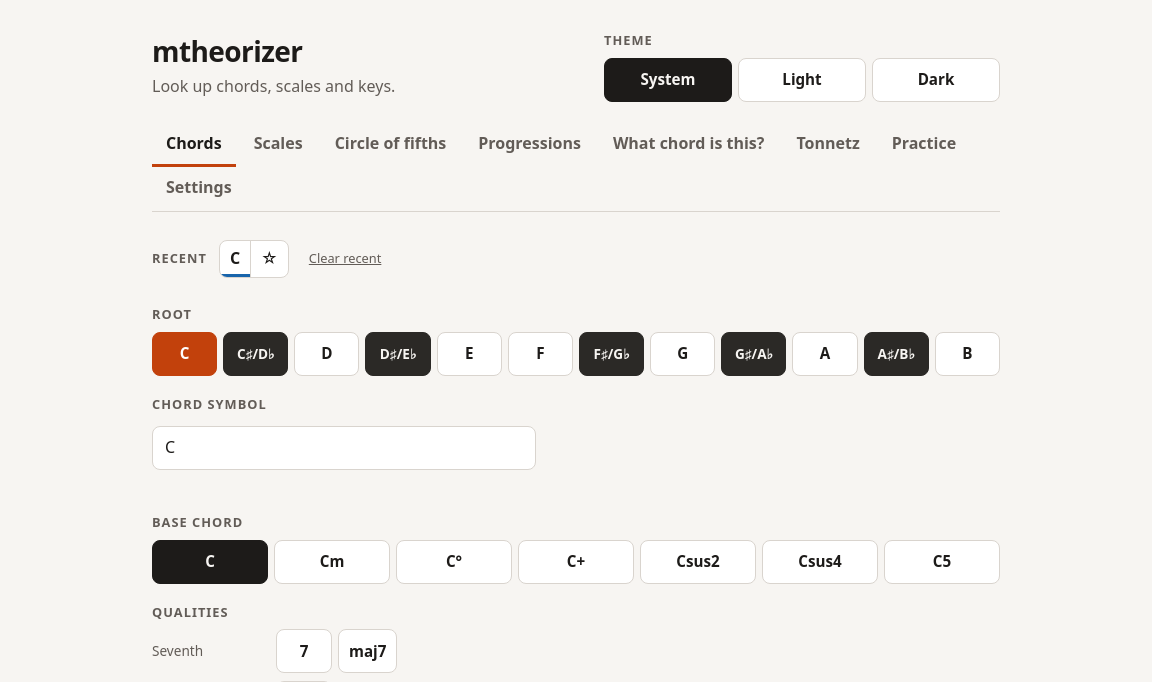
Test: App › chord builder › offers only the qualities that fit the chord as it looks now
The image size is (1152, 682).
Expected: the button "9" is not shown
Expected: the button "♭9" is not shown
Click the button "7".
click(304, 652)  # box [276,630,332,674]
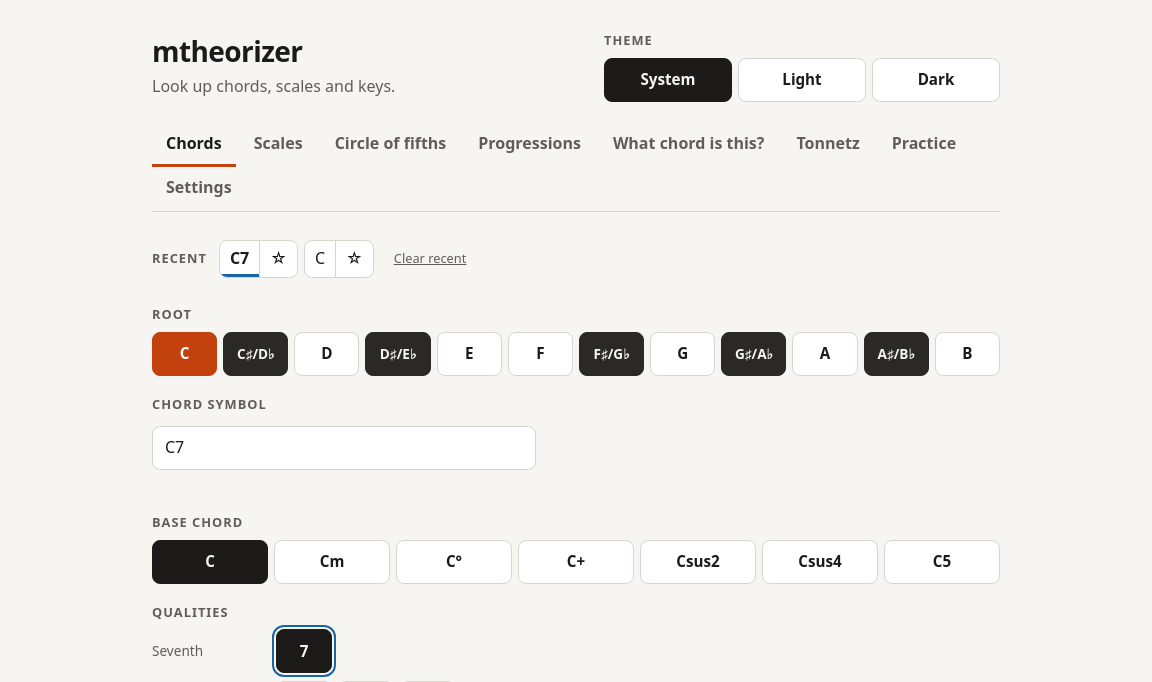
Now the button "maj7" is gone
// On a minor chord ♭5 would make it diminished, so it is not offered.
Click the radio button with aria-label "Minor".
click(332, 562)  # box [274,540,390,584]
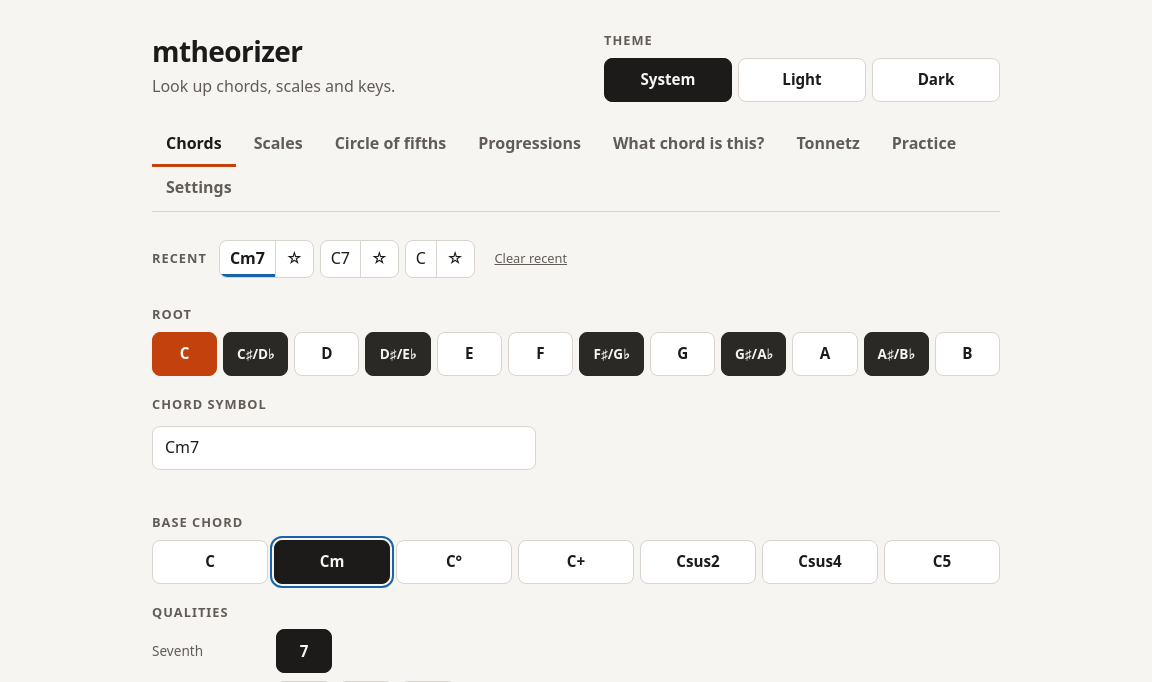
// On a diminished chord the seventh is either 7 or °7, and maj7 is not offered.
Click the button "7".
click(304, 652)  # box [276,630,332,674]
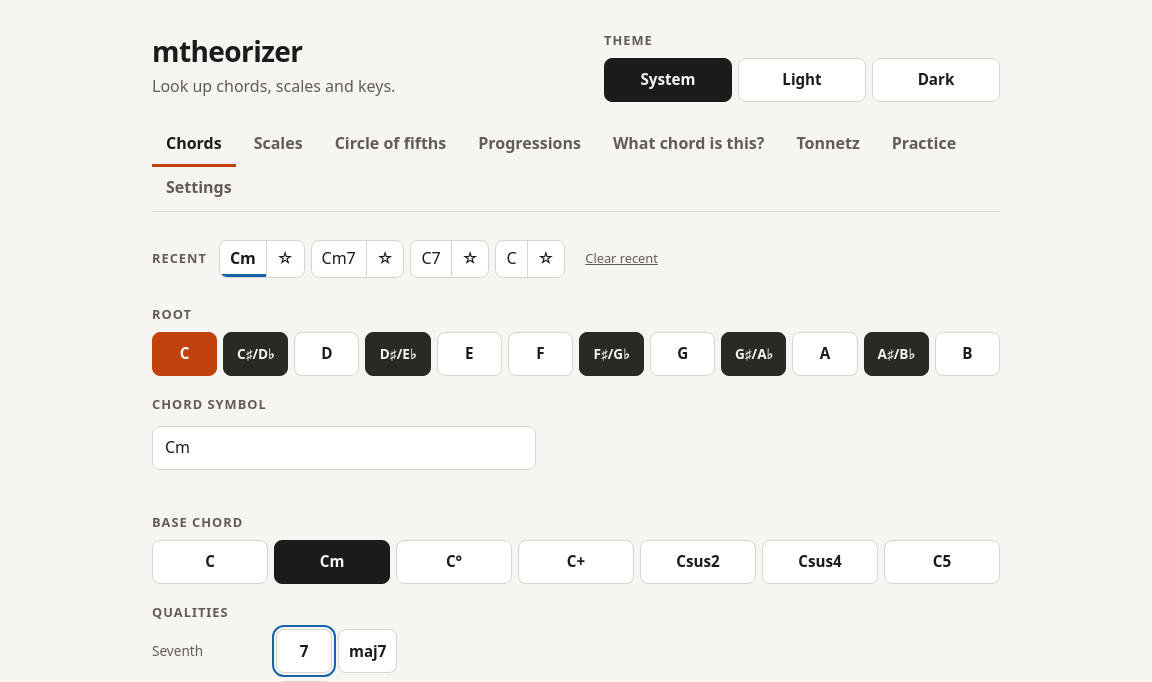
Click the radio button named "Diminished".
click(454, 562)  # box [396,540,512,584]
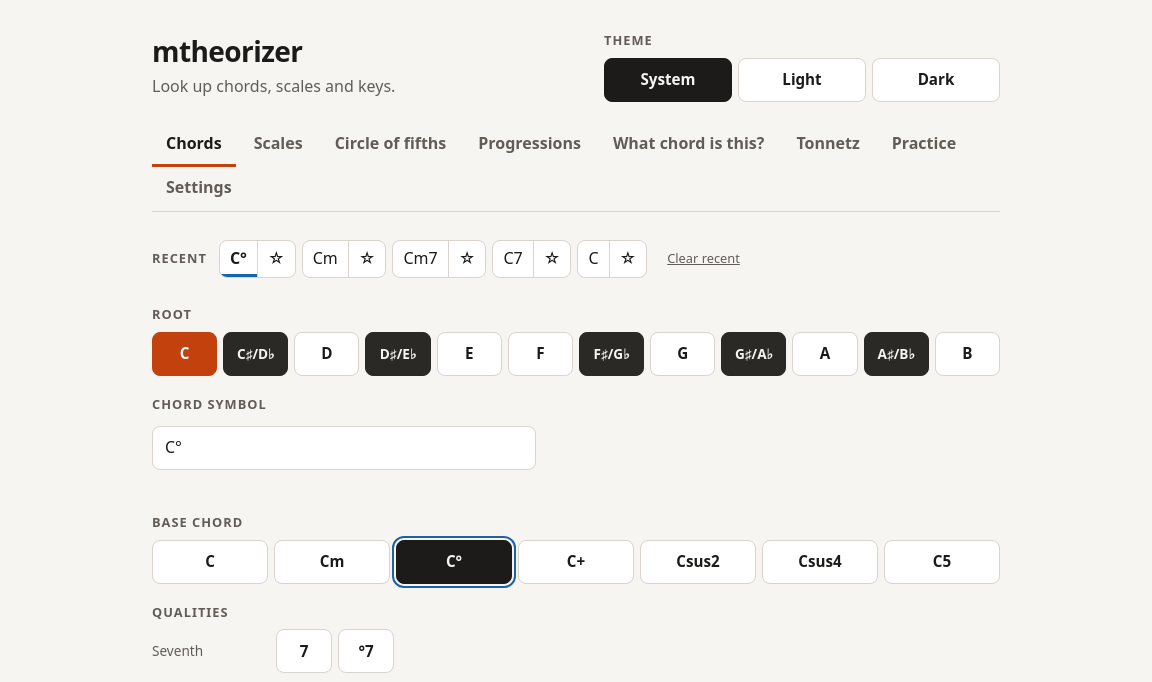
Now the button "°7" is shown, box [338,630,394,674]
Now the button "maj7" is gone
// Csus4 has the eleventh as its fourth.
Click the radio button with aria-label "Suspended fourth".
click(820, 562)  # box [762,540,878,584]
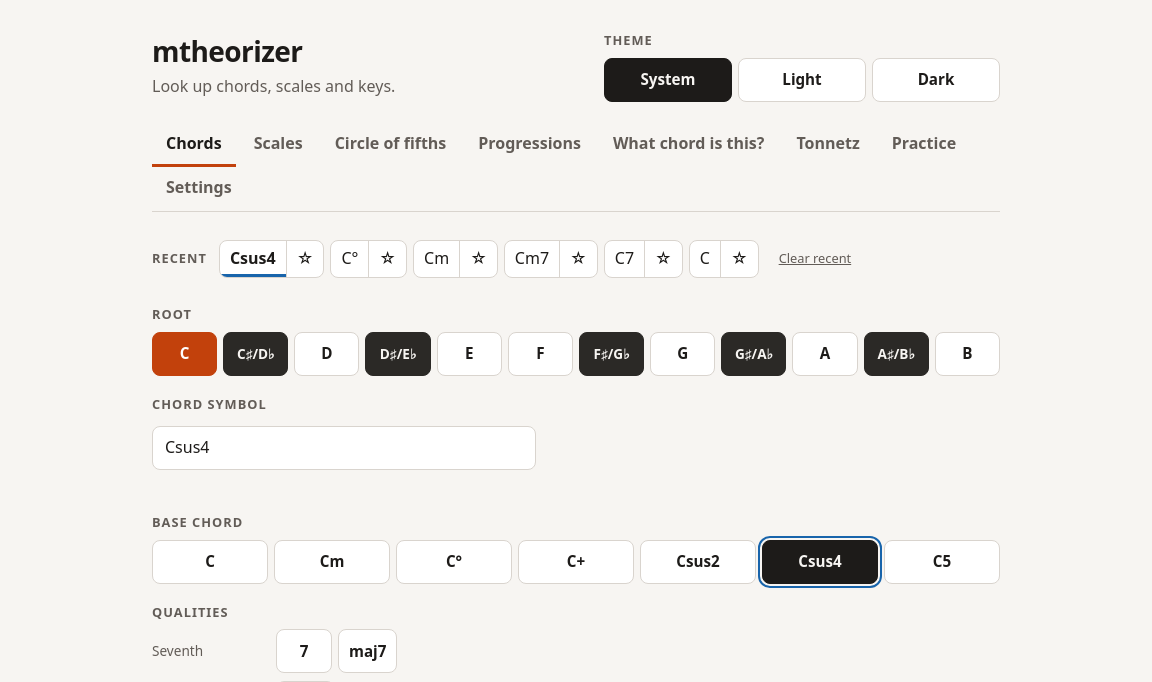
Click the button "7".
click(304, 652)  # box [276,630,332,674]
(page scrolled)
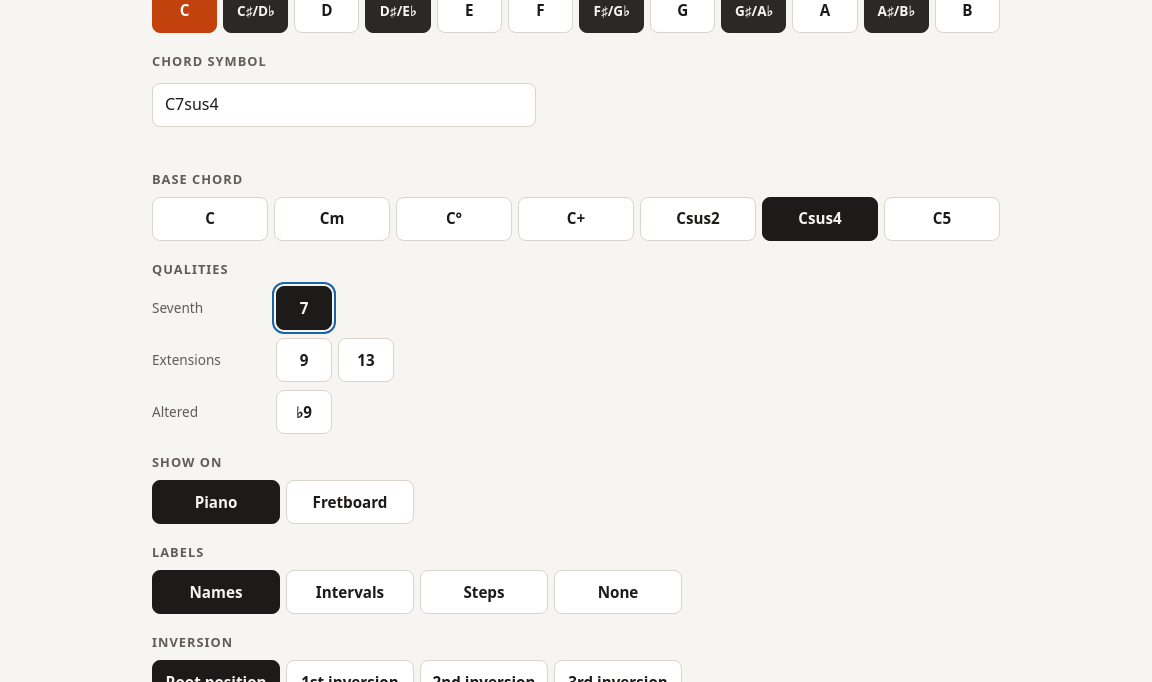
Expected: the button "11" is not shown
Now the button "13" is shown, box [338,338,394,382]
